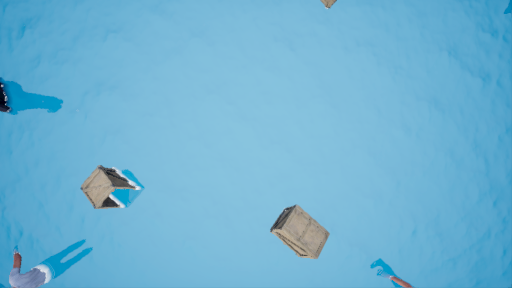person: (7, 244, 99, 288)
